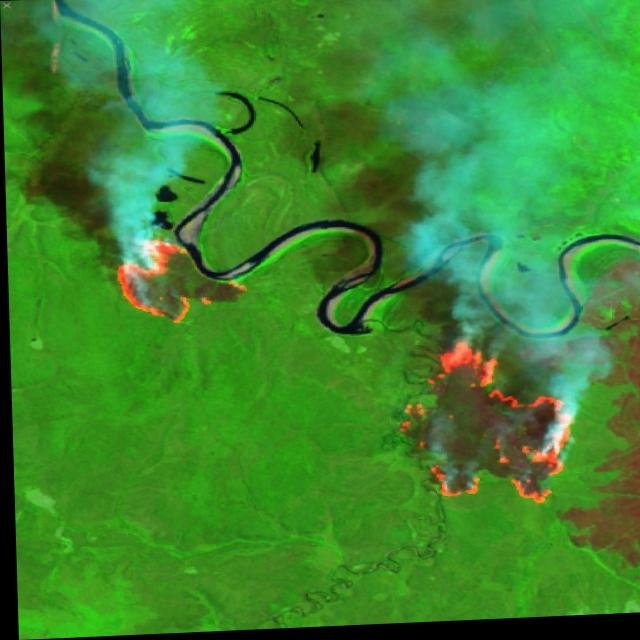fire: (387, 339, 576, 514), (103, 233, 255, 332)
